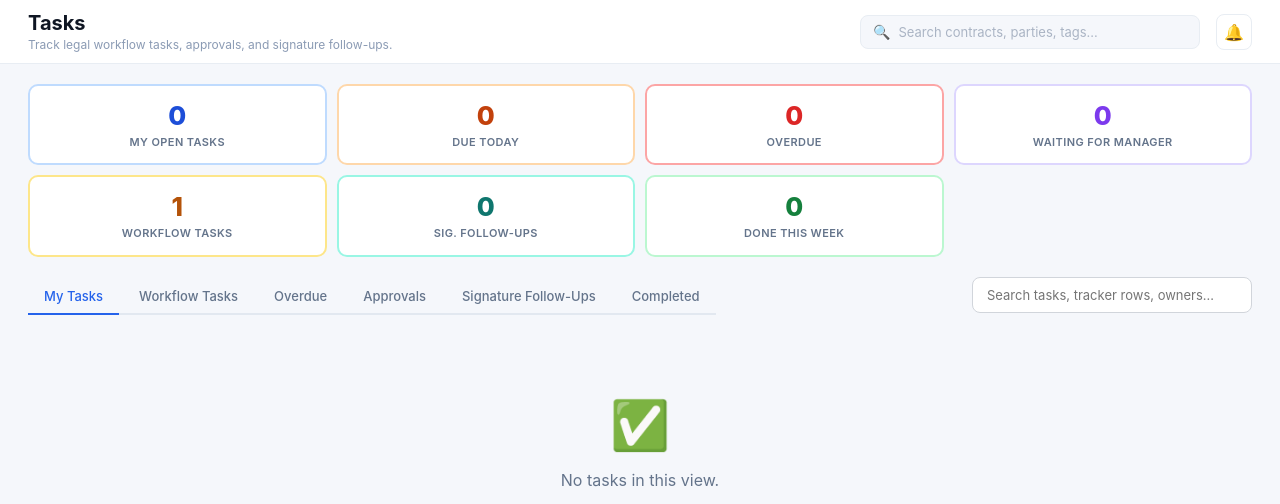
(dc-4) Workflow Tasks includes manual workflow items
The width and height of the screenshot is (1280, 504).
Step 1. Click the button "Workflow Tasks" → (189, 297), box x1=123 y1=279 x2=254 y2=315
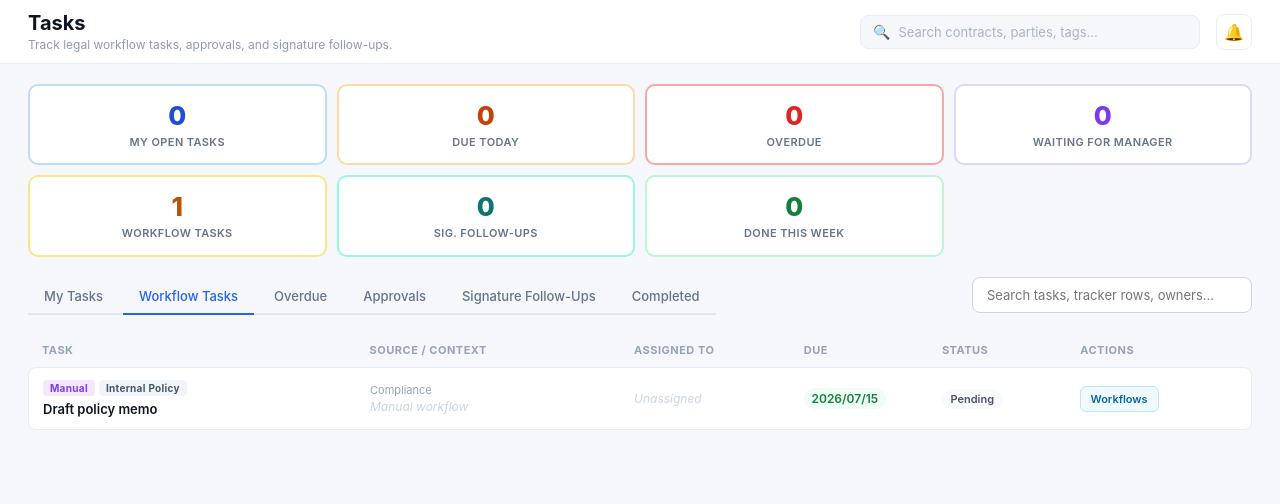
Check: the text "Draft policy memo" is shown, box x1=43 y1=401 x2=157 y2=417
Check: the text "Manual" is shown, box x1=43 y1=380 x2=95 y2=396
